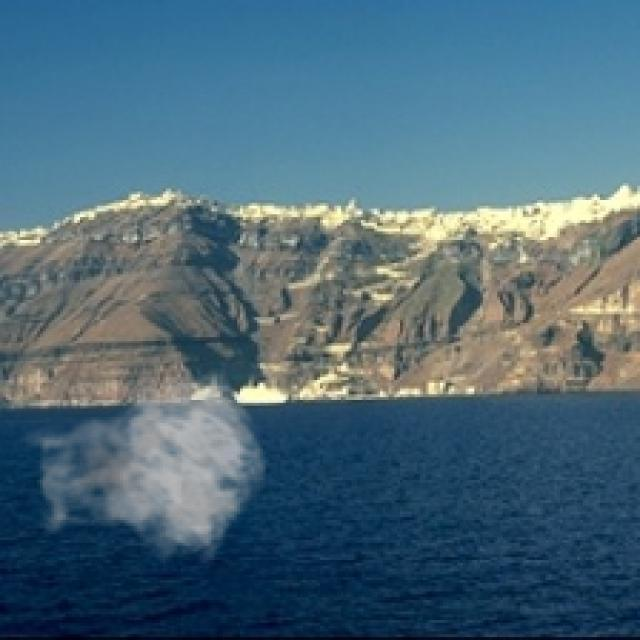Smoke: (20, 368, 269, 568)
